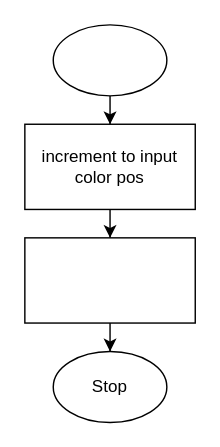
Some shapes in this 220 by 447 pixel diagram are drawn without their labels. The centre of each missing label's shape, as x and y in pixels:
"load value 1 - yes, 0-no" belongs at (x=109, y=279).
"Start" belongs at (x=109, y=59).
